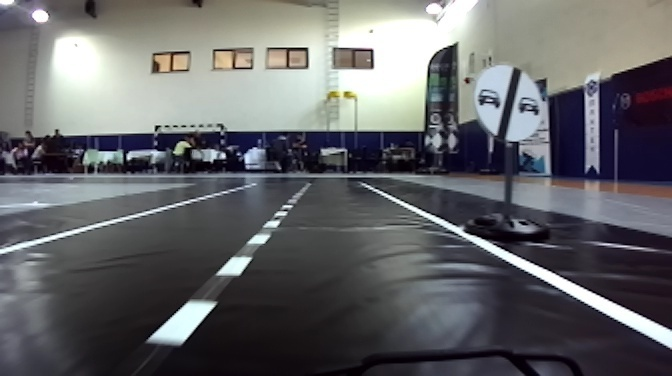sollama_serbest: (475, 65, 542, 140)
